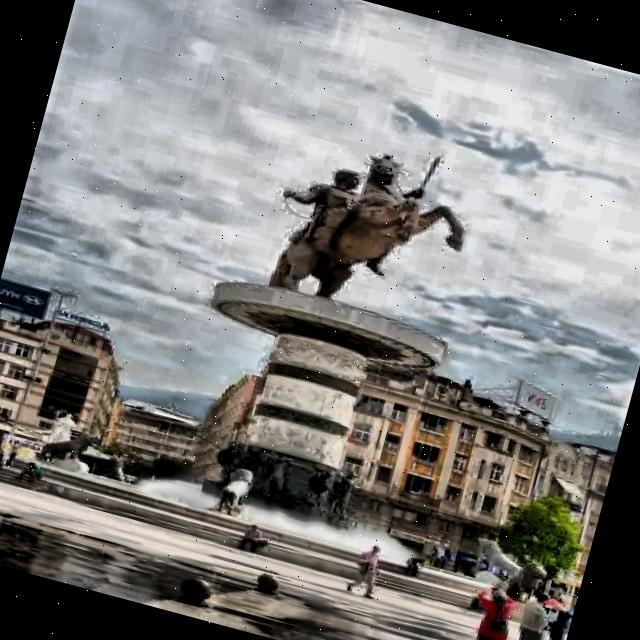alexander the great monument: (150, 107, 493, 569)
